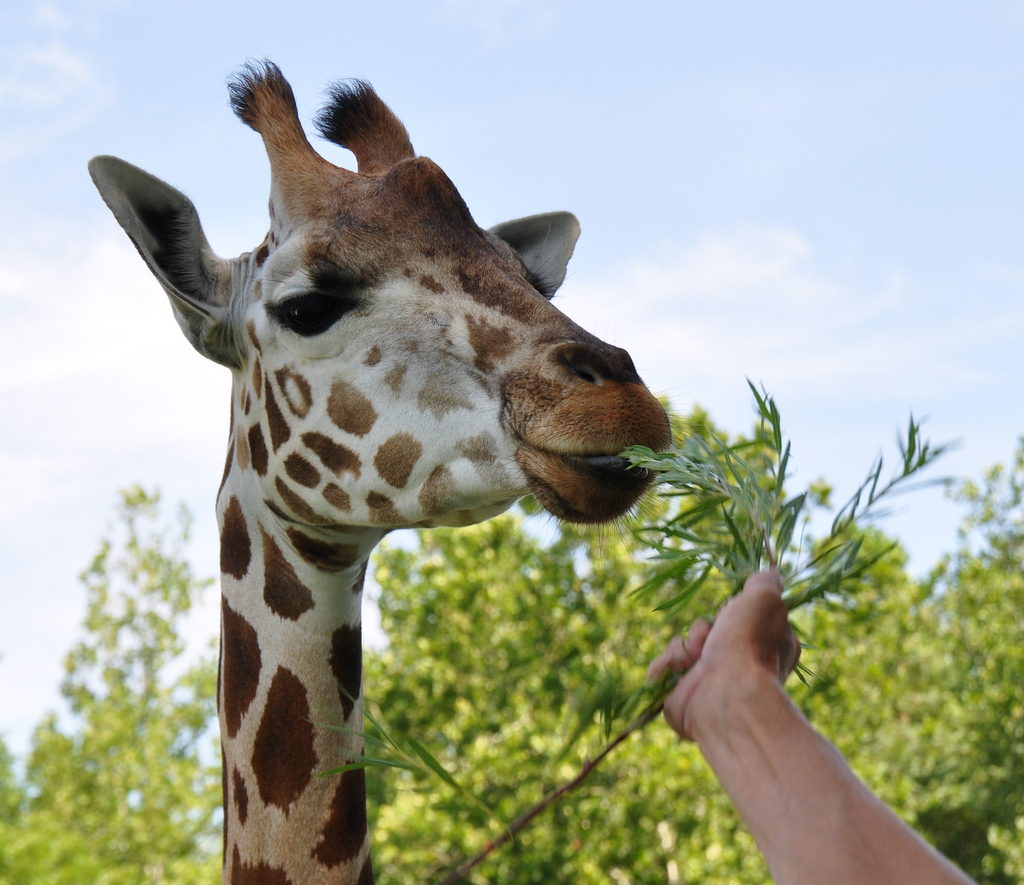giraffe: (107, 62, 671, 842)
